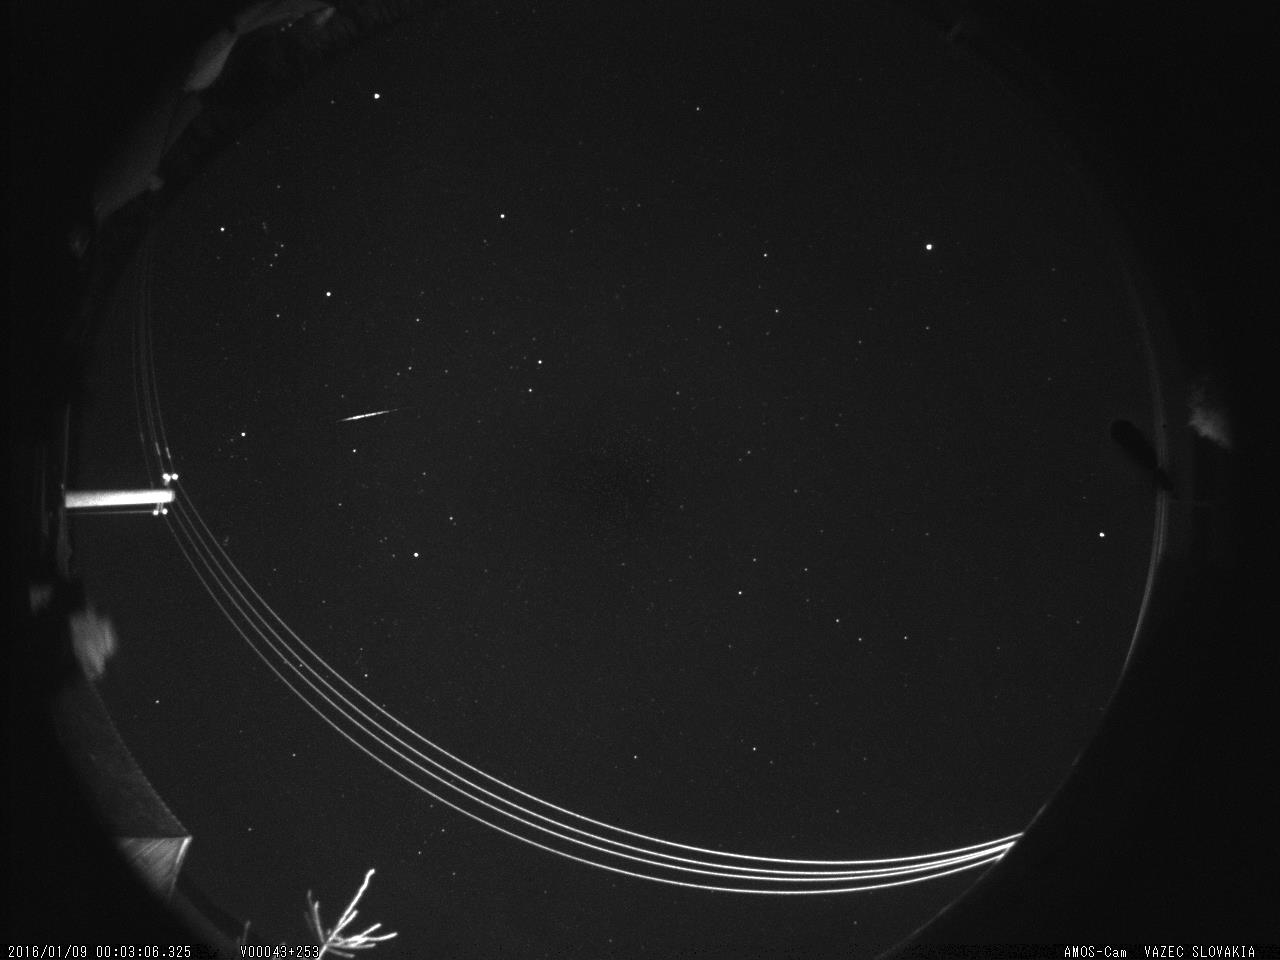meteor: (336, 398, 418, 433)
